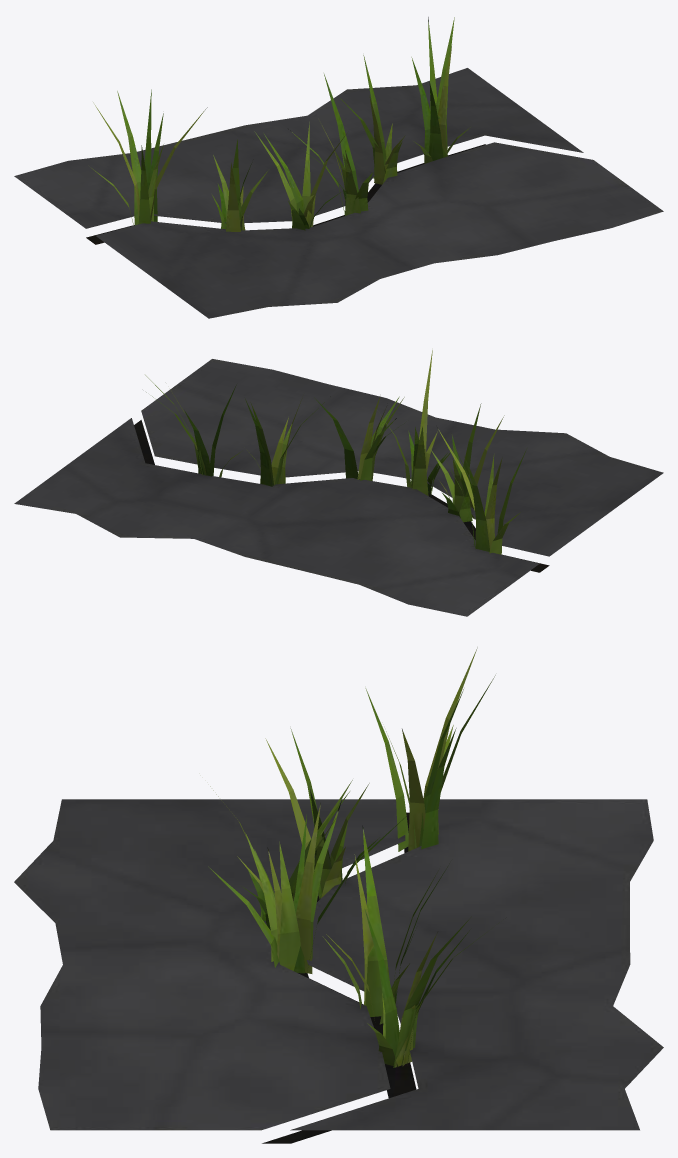
The model's file is grass_asphalt_idle.glb.
3 renders of one model, top to bottom at view 1: azimuth 30°, elevation 25°; view 2: azimuth 150°, elevation 25°; view 3: azimuth 270°, elevation 25°, orthographic. The views are drawn at different scales.
Visible parts, largest first — view 1: grass_asphalt; view 2: grass_asphalt; view 3: grass_asphalt.
Boxes of the visible parts, x1,y1,x2,y2 form: grass_asphalt: (14,17,663,318); grass_asphalt: (14,350,663,616); grass_asphalt: (14,647,663,1143).
Bounding box in the file's own units: 0.84 × 0.2173 × 0.6972.
1 material, 1 textured.
